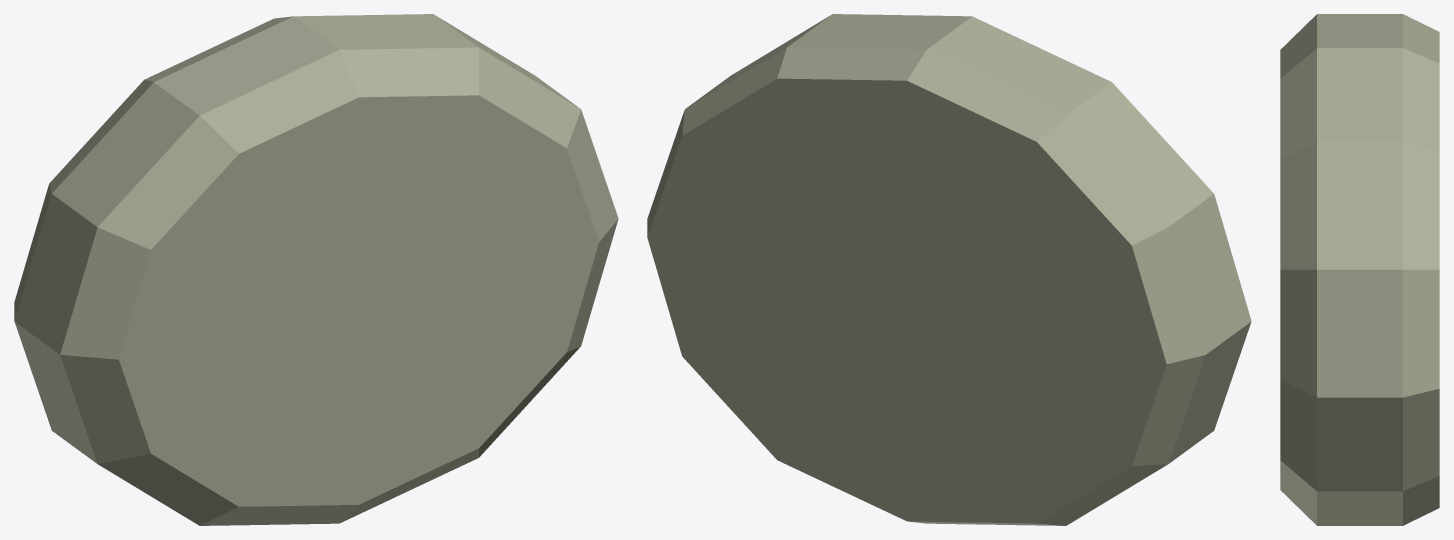
Rendered from centipede.obj.
3 views of the same model, side by side, from view 1: azimuth 30°, elevation 25°; view 2: azimuth 150°, elevation 25°; view 3: azimuth 270°, elevation 25° (orthographic). The views are drawn at different scales.
Parts seen in each view (by area): view 1: centipede; view 2: centipede; view 3: centipede.
Boxes of the visible parts, box(x1,y1,x2,y2) form: centipede: box(14, 14, 618, 525); centipede: box(647, 14, 1251, 525); centipede: box(1280, 14, 1439, 525).
Size of the model in its own units: 1.48 by 1.2 by 0.39.
